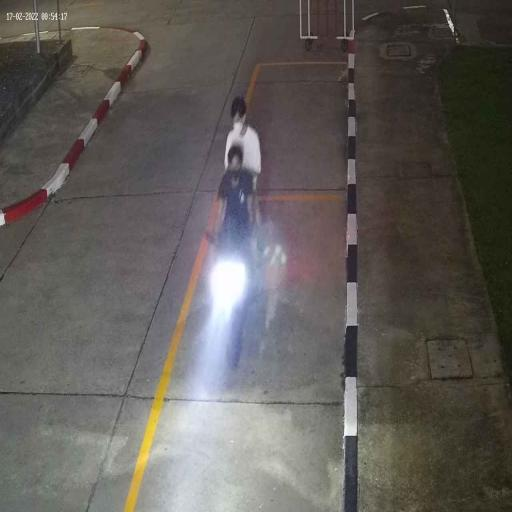motorcycle: (204, 228, 258, 369)
